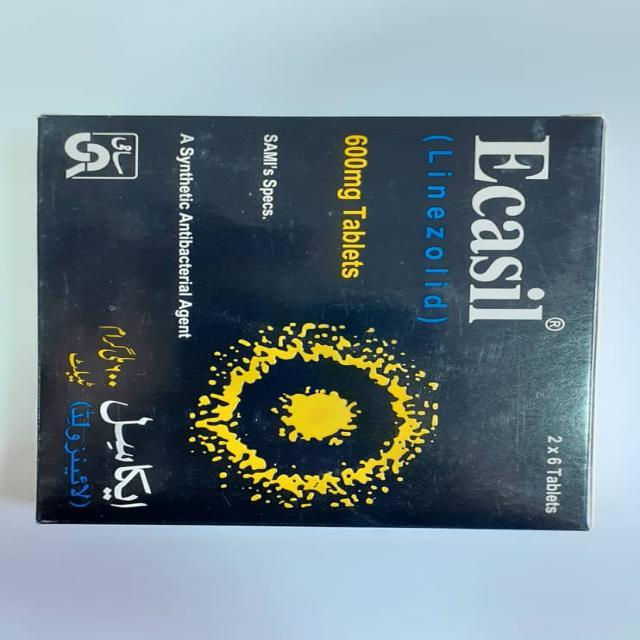drug-name: (472, 123, 552, 326)
